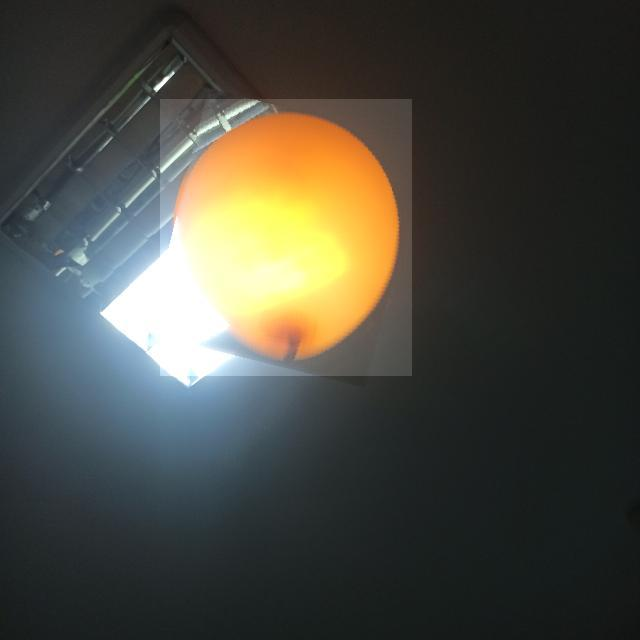balloon: (160, 99, 412, 376)
